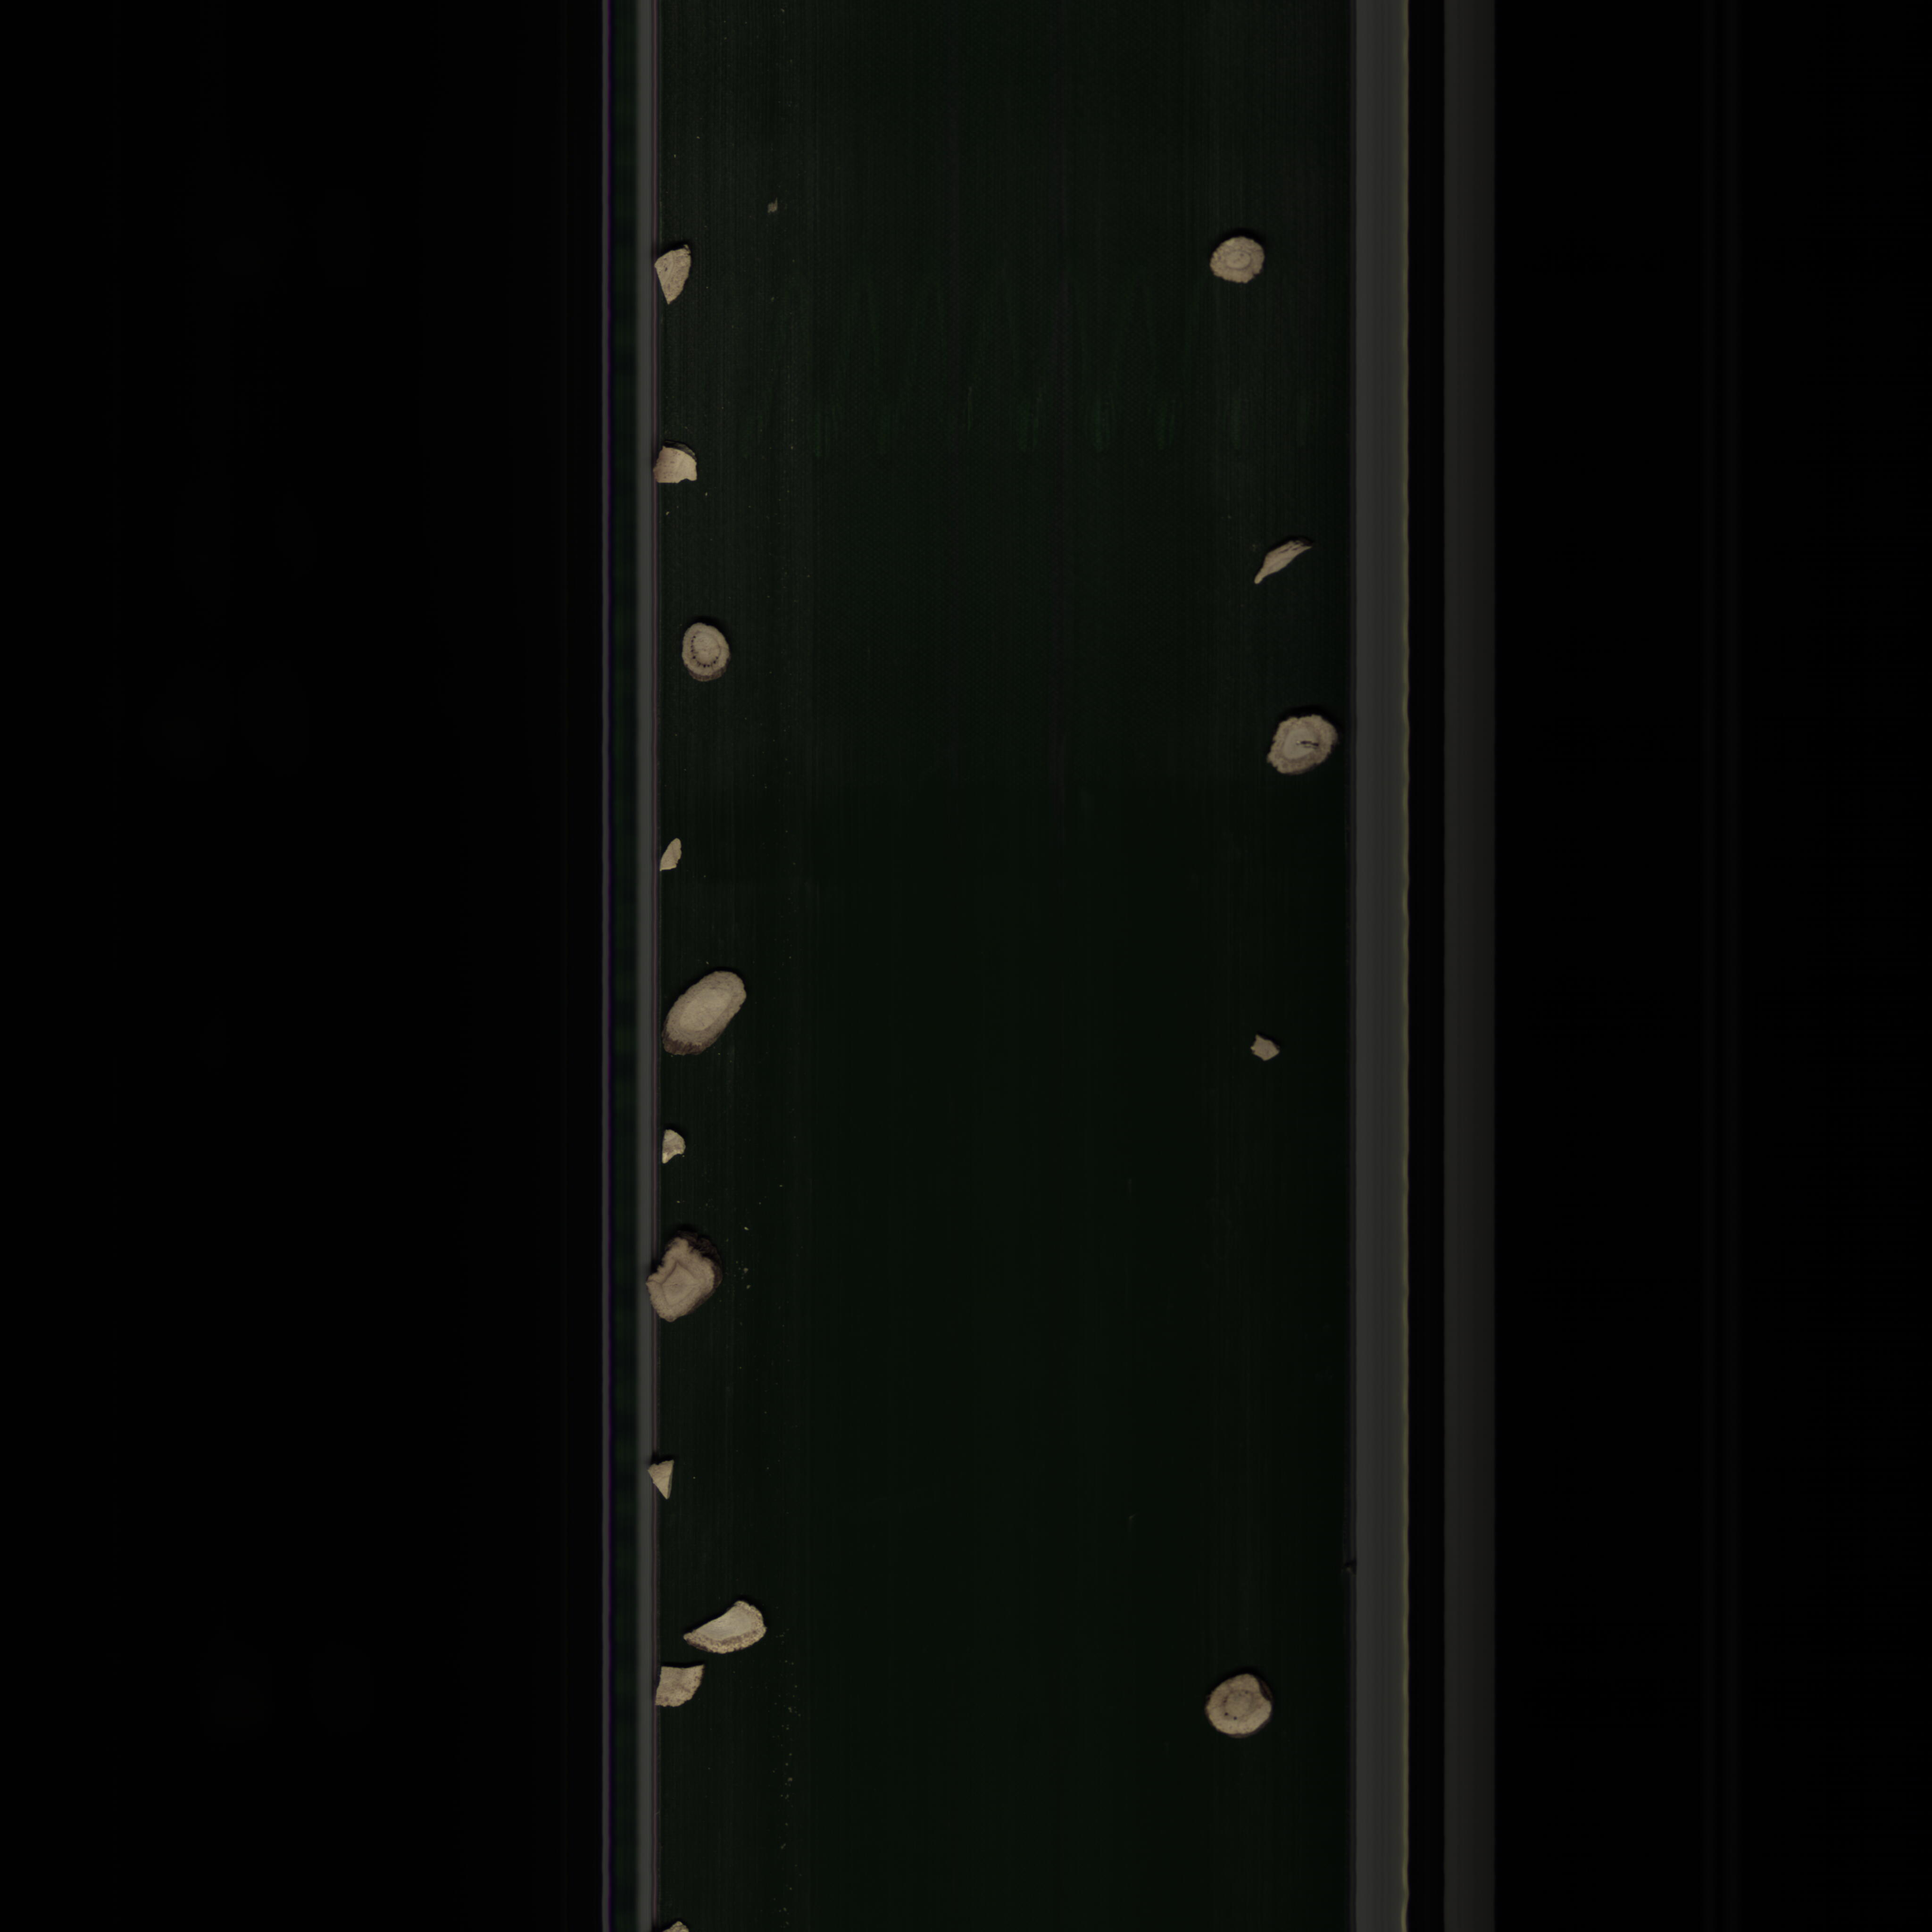debris: (679, 1596, 777, 1656), (1249, 534, 1318, 593), (644, 239, 699, 310), (644, 1661, 717, 1714), (649, 442, 704, 494), (637, 1454, 683, 1504), (658, 830, 695, 883), (1240, 1026, 1284, 1069), (655, 1120, 690, 1168)
distortion: (656, 962, 757, 1065), (648, 1233, 725, 1330)
hole: (1261, 706, 1341, 780), (671, 616, 740, 697)
